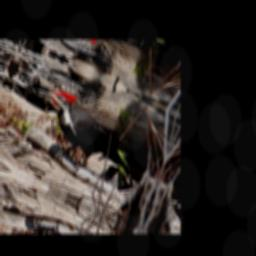Woodpecker: (15, 77, 155, 201)
